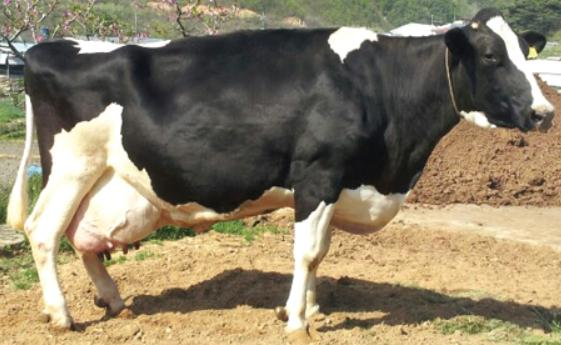cow: (7, 9, 553, 334)
